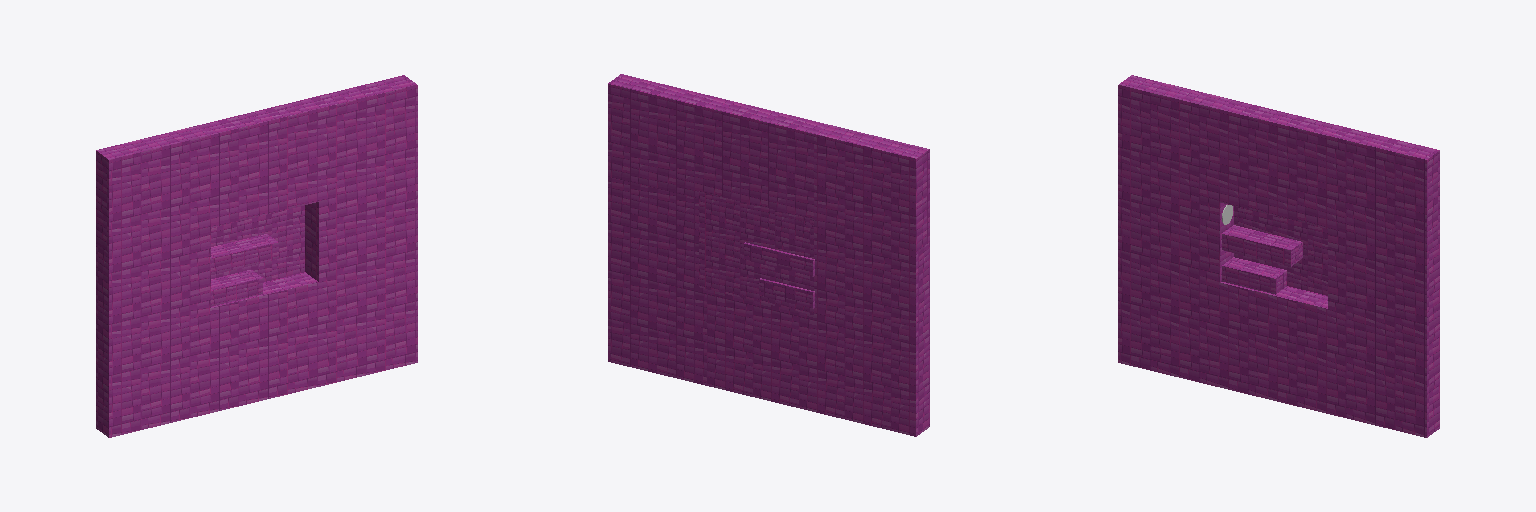
The picture shows the model from 3 angles: view 1: azimuth 30°, elevation 25°; view 2: azimuth 150°, elevation 25°; view 3: azimuth 330°, elevation 25°; orthographic projection.
Visible parts, largest first — view 1: Cube, Plane, Cube.003_Cube.004, Cube.001; view 2: Cube, Plane, Cube.003_Cube.004, Cube.001; view 3: Cube, Plane, Cube.003_Cube.004, Cube.001.
Part boxes in pixels (x1,y1,x2,y2): Cube: (96, 75, 417, 437); Plane: (211, 205, 304, 281); Cube.003_Cube.004: (211, 234, 278, 274); Cube.001: (211, 270, 262, 306); Cube: (608, 74, 929, 436); Plane: (699, 191, 813, 314); Cube.003_Cube.004: (744, 242, 814, 276); Cube.001: (759, 278, 814, 308); Cube: (1118, 75, 1439, 437); Plane: (1234, 206, 1327, 295); Cube.003_Cube.004: (1222, 225, 1302, 266); Cube.001: (1222, 257, 1286, 294).
Size of the model in its own units: 40.25 by 34.68 by 3.34.
Materials: 2 (1 with a texture image).